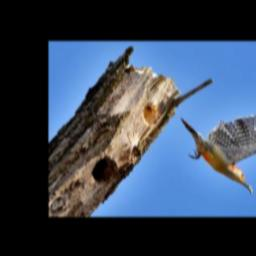Woodpecker: (180, 108, 256, 194)
